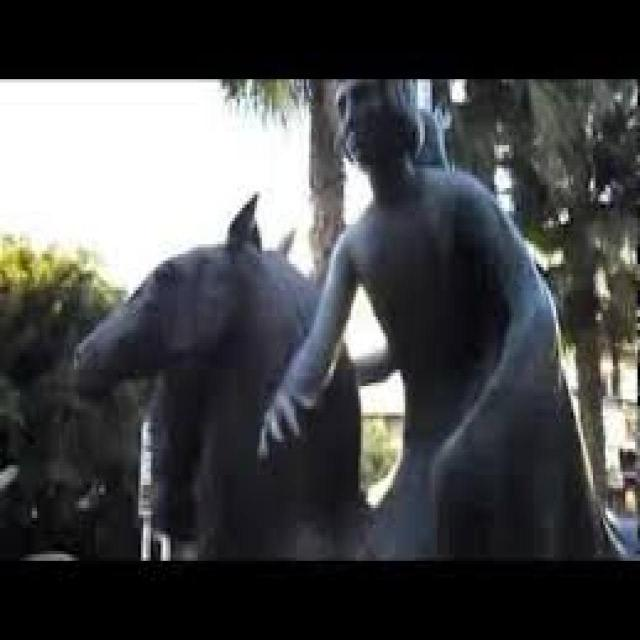Aretousa: (72, 78, 640, 560)
